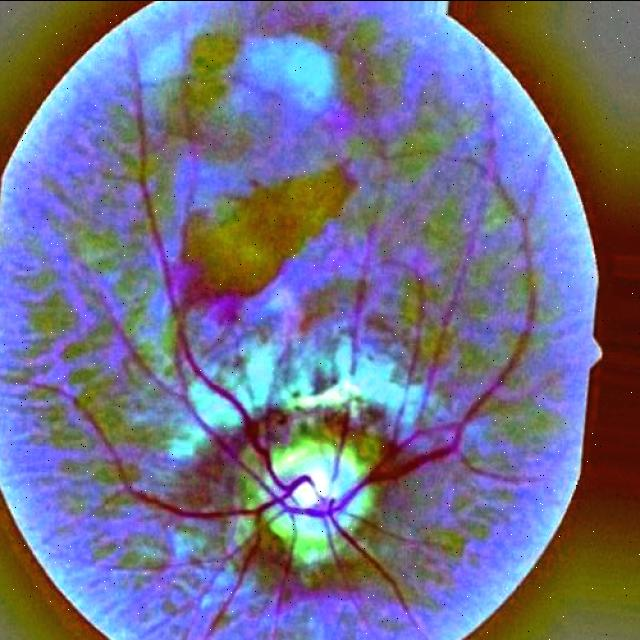Nerves: (73, 79, 538, 640), (352, 280, 370, 348)
Optic Disk: (237, 381, 385, 573)
